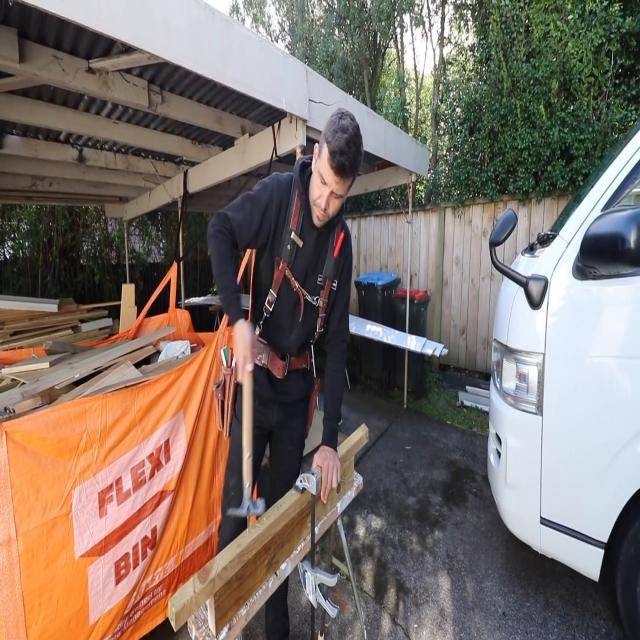hammer: (227, 374, 266, 516)
